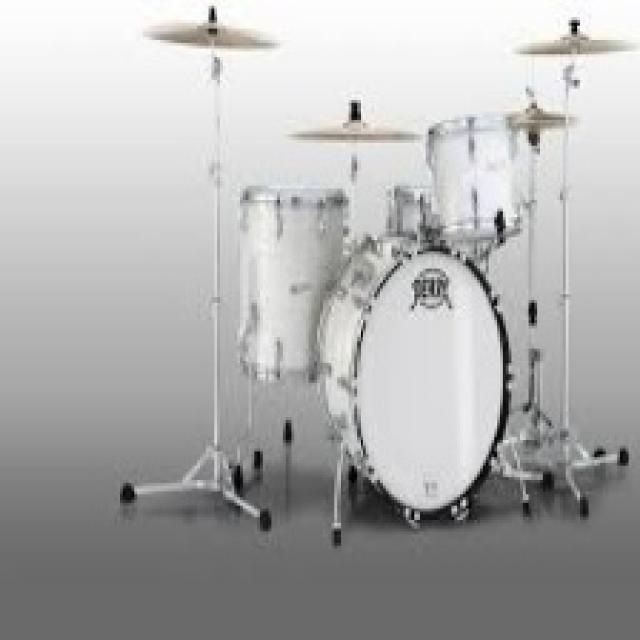drums: (139, 4, 640, 541)
